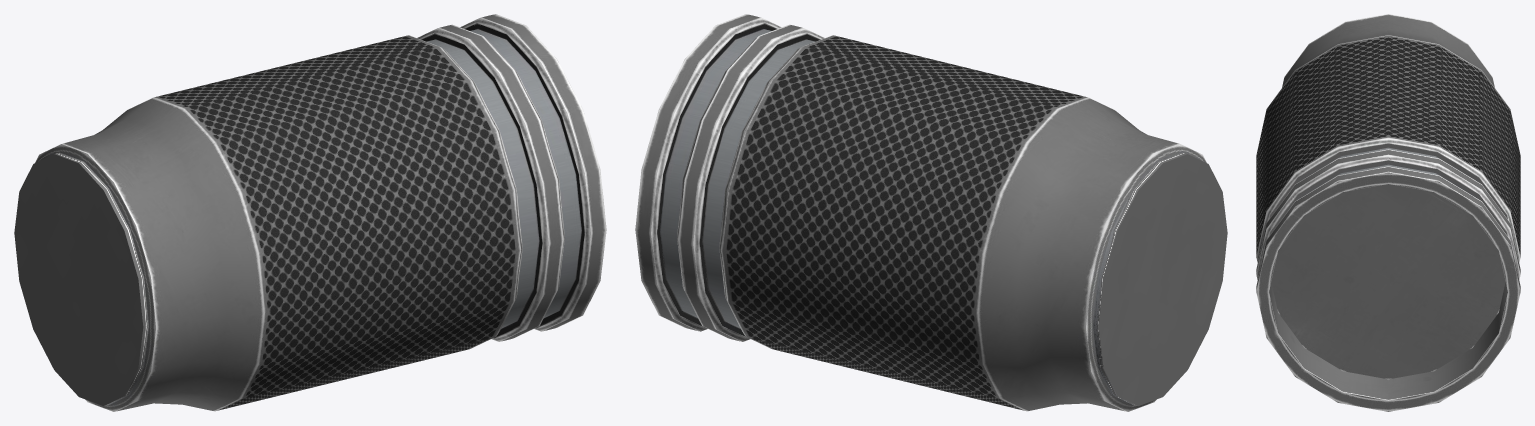
File: guard_15_c_a.glb
3 renders of one model, left to right at view 1: azimuth 30°, elevation 25°; view 2: azimuth 150°, elevation 25°; view 3: azimuth 270°, elevation 25°, orthographic. The views are drawn at different scales.
Parts seen in each view (by area): view 1: guard_15_c_a_lod0; view 2: guard_15_c_a_lod0; view 3: guard_15_c_a_lod0.
Boxes of the visible parts, bbox=[...] form: guard_15_c_a_lod0: bbox=[14, 14, 606, 411]; guard_15_c_a_lod0: bbox=[635, 14, 1227, 411]; guard_15_c_a_lod0: bbox=[1256, 14, 1520, 411].
Size of what is drawn, in the model's own units: 0.0569 by 0.0354 by 0.0354.
Materials: 1 (1 with a texture image).
